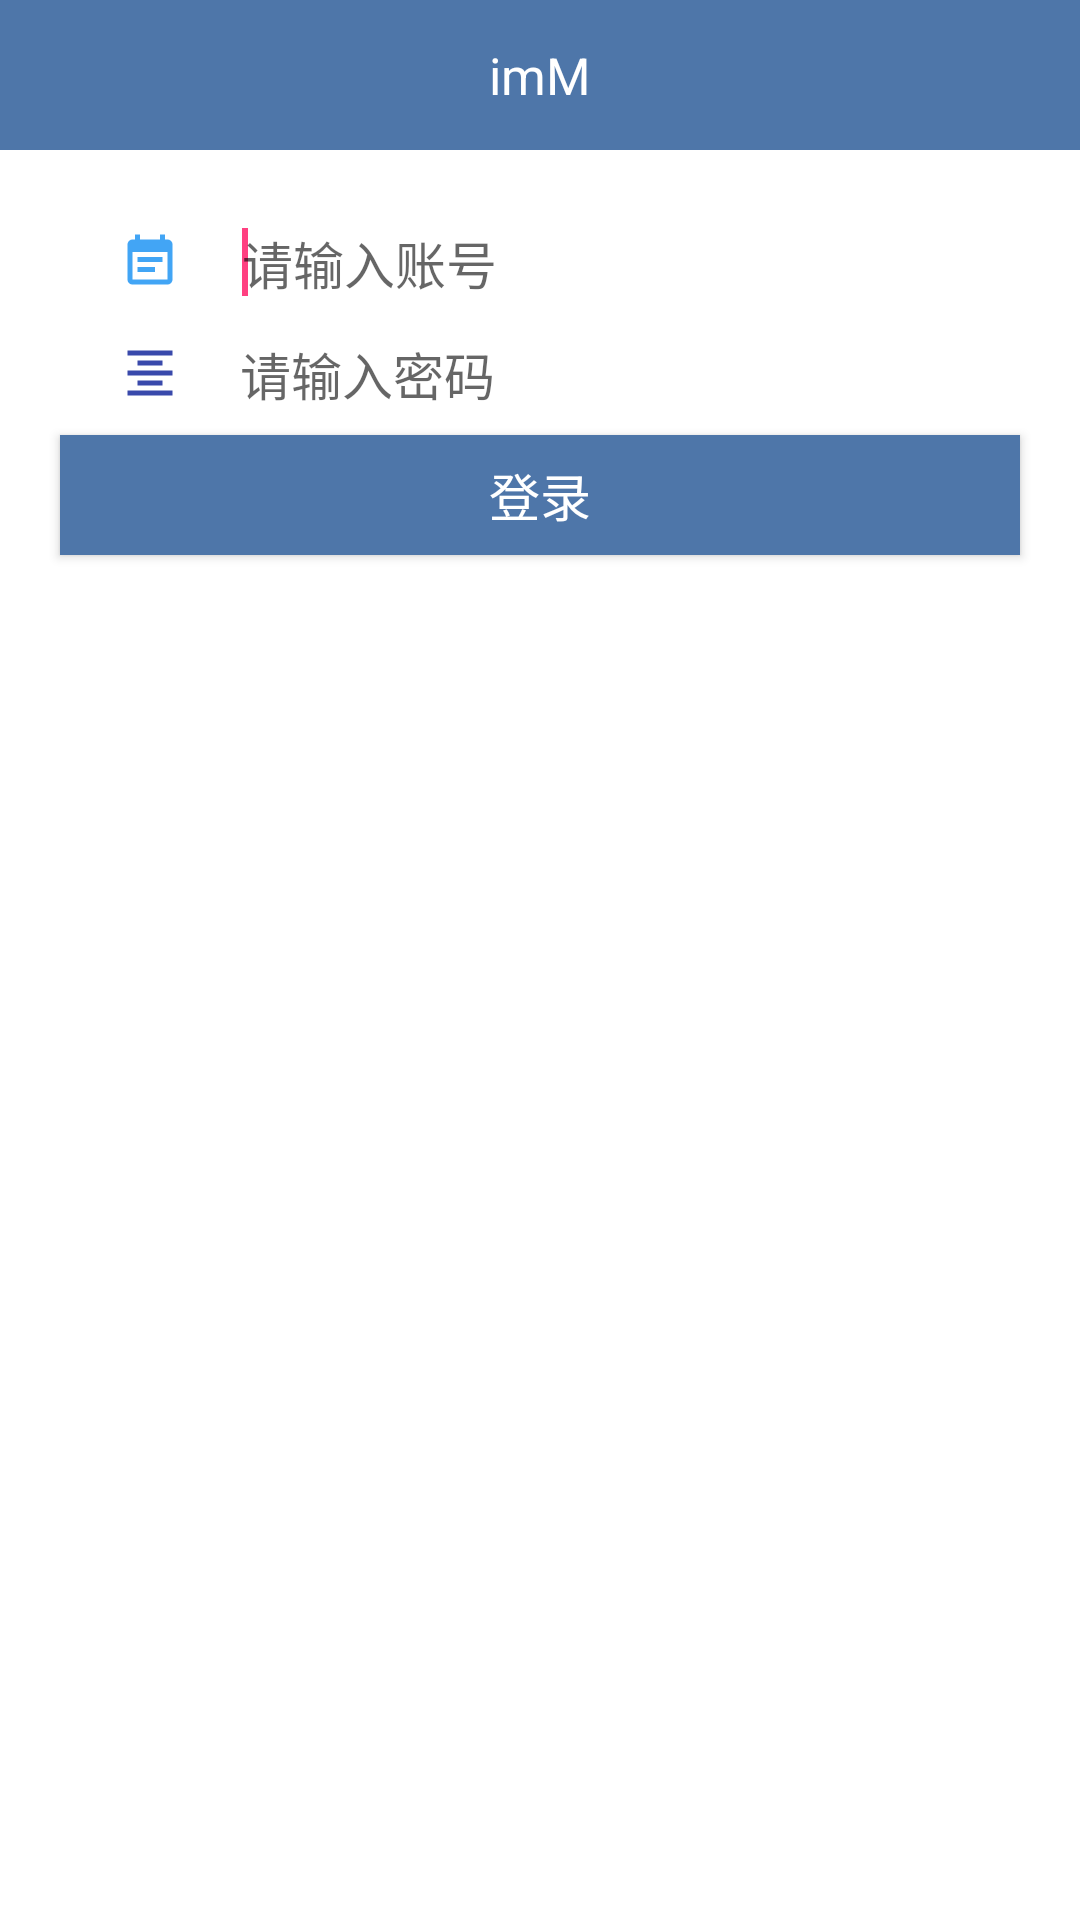

Named icons in this screenshot (1080w x 1920h) and their centers, [x,y]:
event note: [150,259]
format align center indigo: [150,373]
